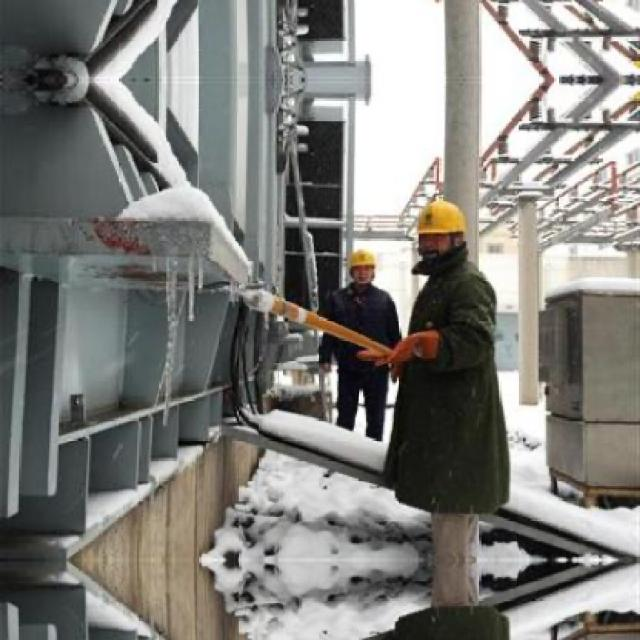helmet: (414, 197, 472, 260), (345, 243, 380, 288)
